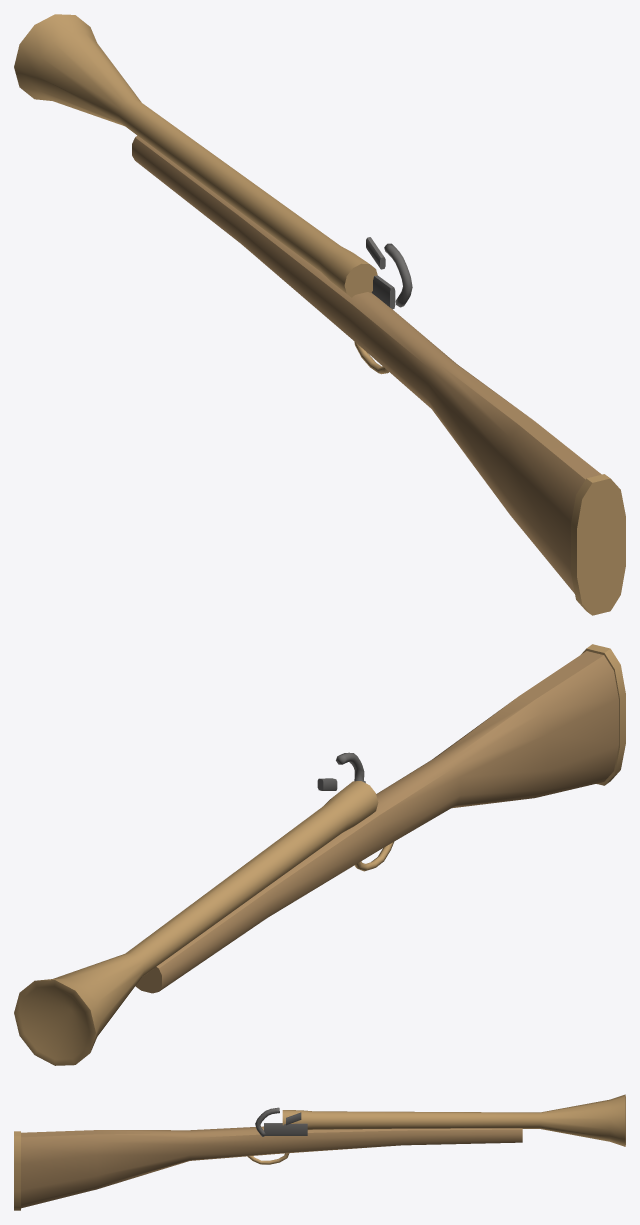
Rendered from blunderbuss.glb.
The picture shows the model from 3 angles, top to bottom: view 1: azimuth 30°, elevation 25°; view 2: azimuth 150°, elevation 25°; view 3: azimuth 270°, elevation 25°; orthographic projection. The views are drawn at different scales.
Parts seen in each view (by area): view 1: blunderbuss; view 2: blunderbuss; view 3: blunderbuss.
Boxes of the visible parts, bbox=[...] form: blunderbuss: bbox=[14, 14, 625, 615]; blunderbuss: bbox=[14, 644, 625, 1065]; blunderbuss: bbox=[14, 1094, 625, 1210].
Size of the model in its own units: 0.17 by 0.3945 by 1.96.
